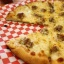pizza: (5, 1, 64, 64)
